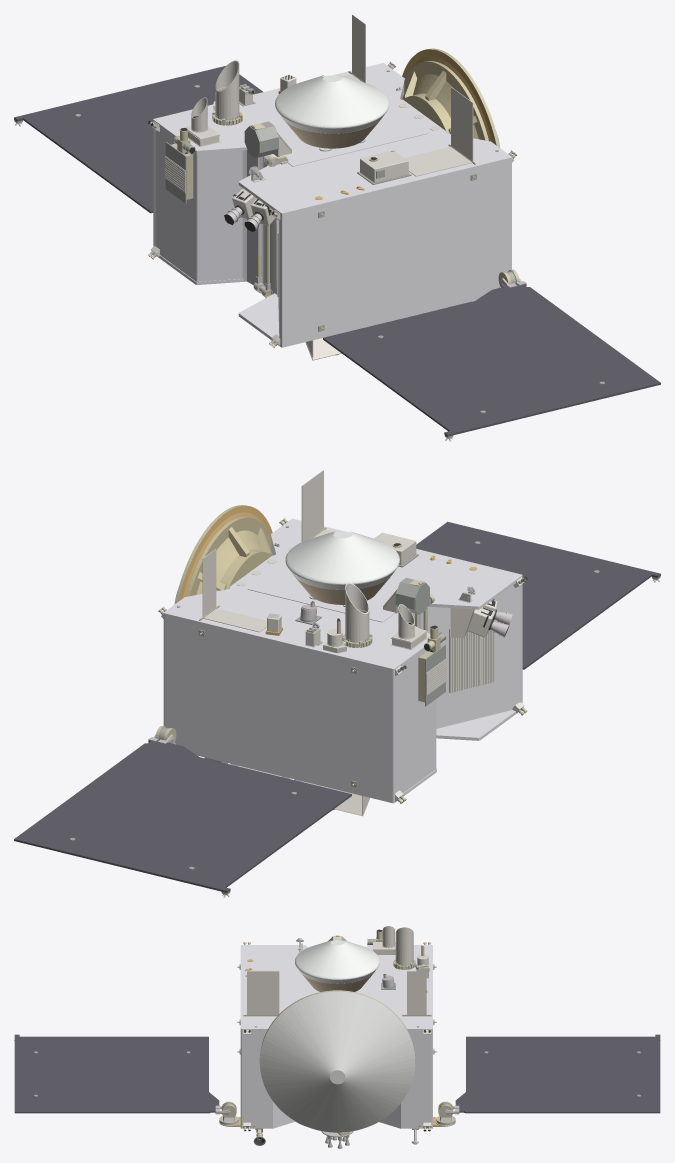
Rendered from osiris.glb.
3 views of the same model, one above another, from view 1: azimuth 30°, elevation 25°; view 2: azimuth 150°, elevation 25°; view 3: azimuth 270°, elevation 25° (orthographic). The views are drawn at different scales.
Visible parts, largest first — view 1: Main Layer; view 2: Main Layer; view 3: Main Layer.
Part boxes in pixels (bbox=[...]): Main Layer: bbox=[14, 14, 660, 441]; Main Layer: bbox=[14, 470, 660, 897]; Main Layer: bbox=[14, 926, 660, 1148].
Size of the model in its own units: 13.72 by 12.01 by 34.65.
1 material, 1 textured.
